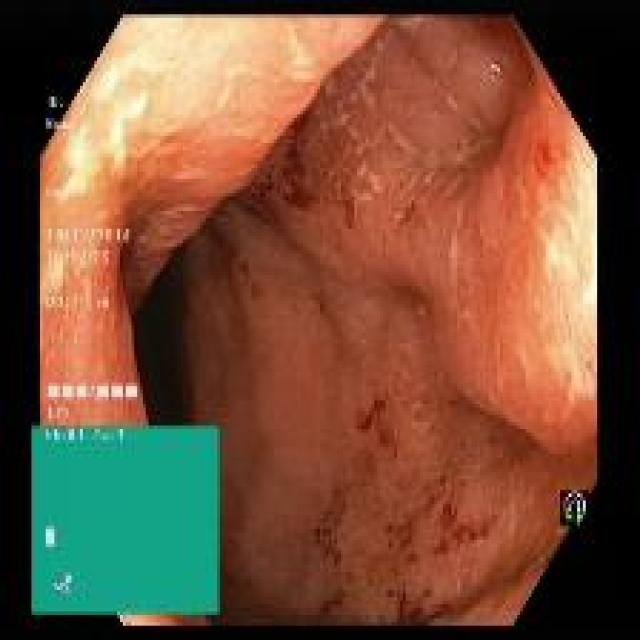ulcerative-colitis: (40, 17, 598, 623)
